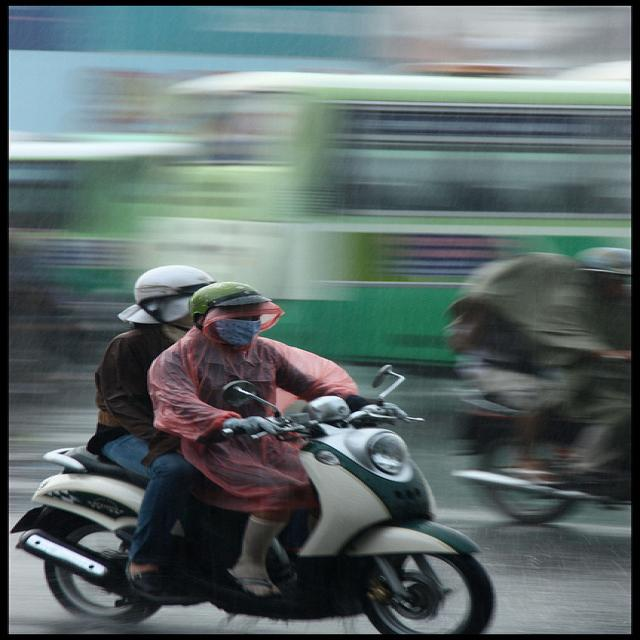motor: (11, 366, 493, 633), (438, 385, 609, 527)
